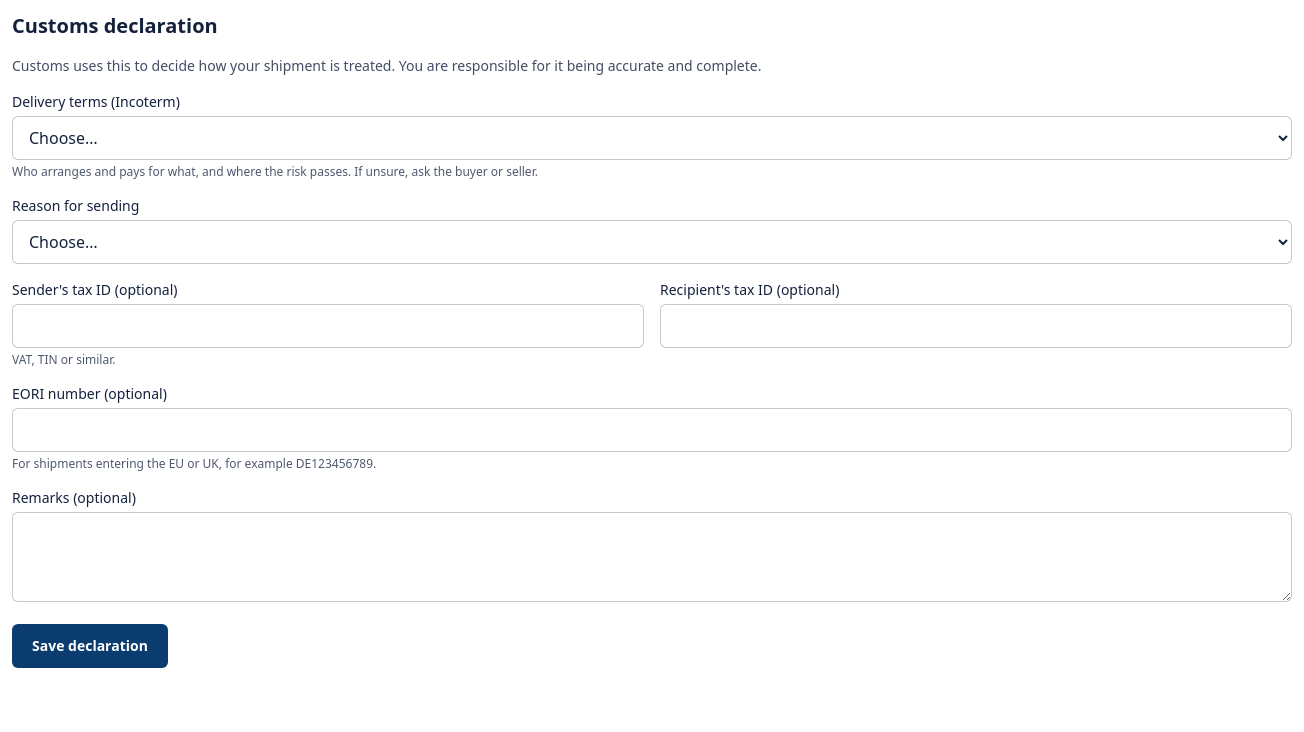
Scenario: DeclarationForm › saves the declaration and shows the saved values
Select "DAP — Delivered At Place" in the dropdown labelled "Delivery terms (Incoterm)": (652, 138) [12,116,1292,160]
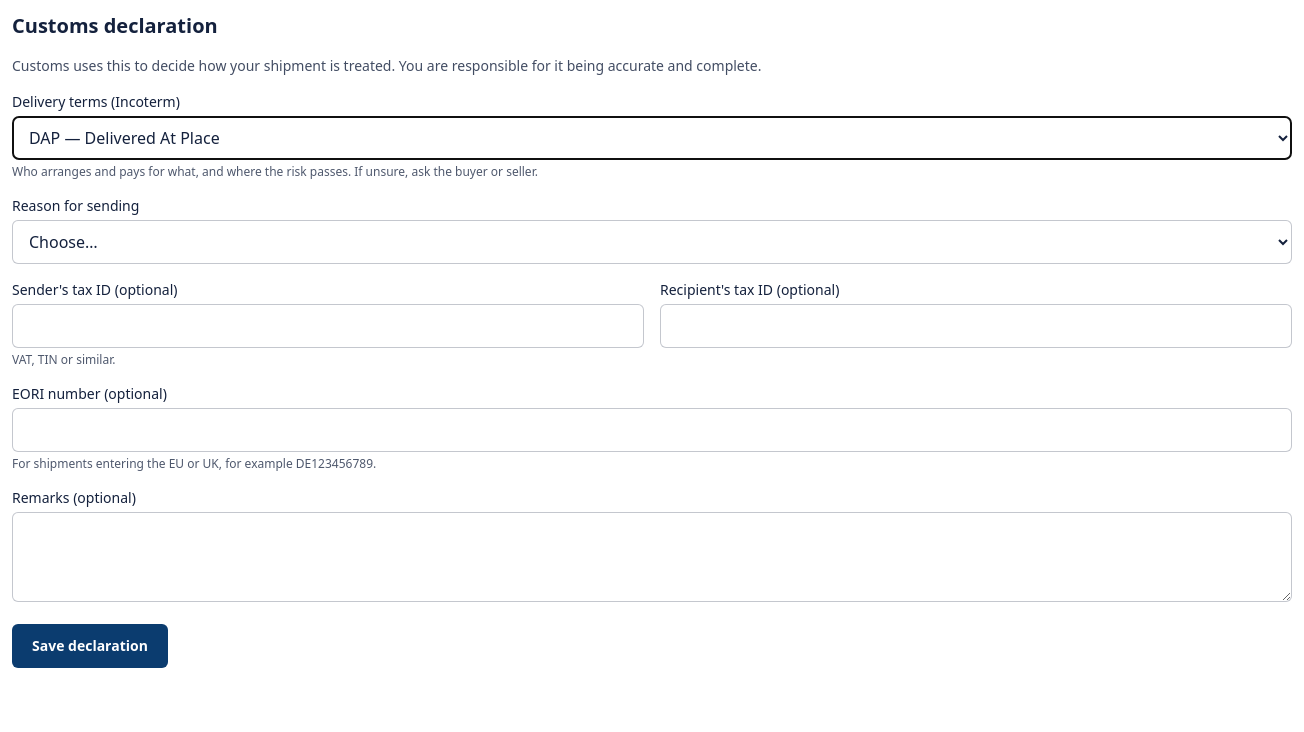
Select "Sale of goods" in the dropdown labelled "Reason for sending": (652, 242) [12,220,1292,264]
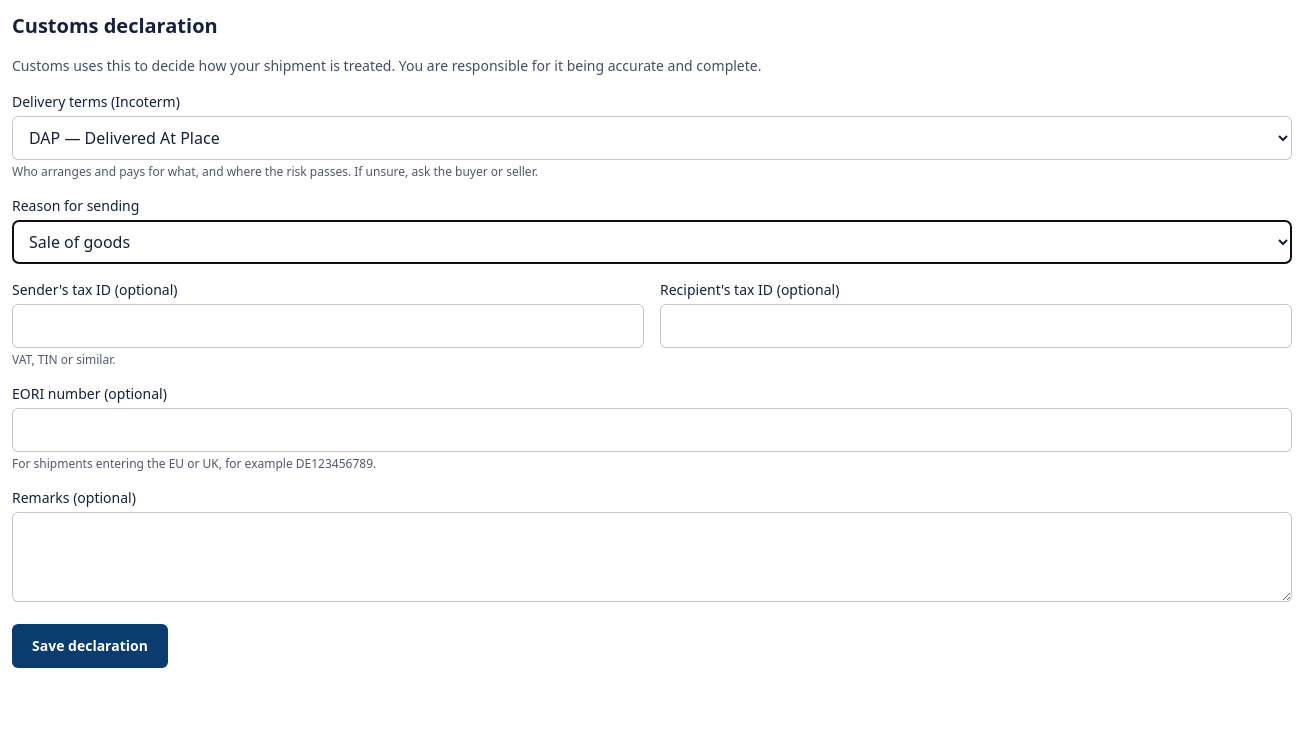
In the field labelled "EORI number (optional)": (652, 430) [12,408,1292,452], type "de123456789"
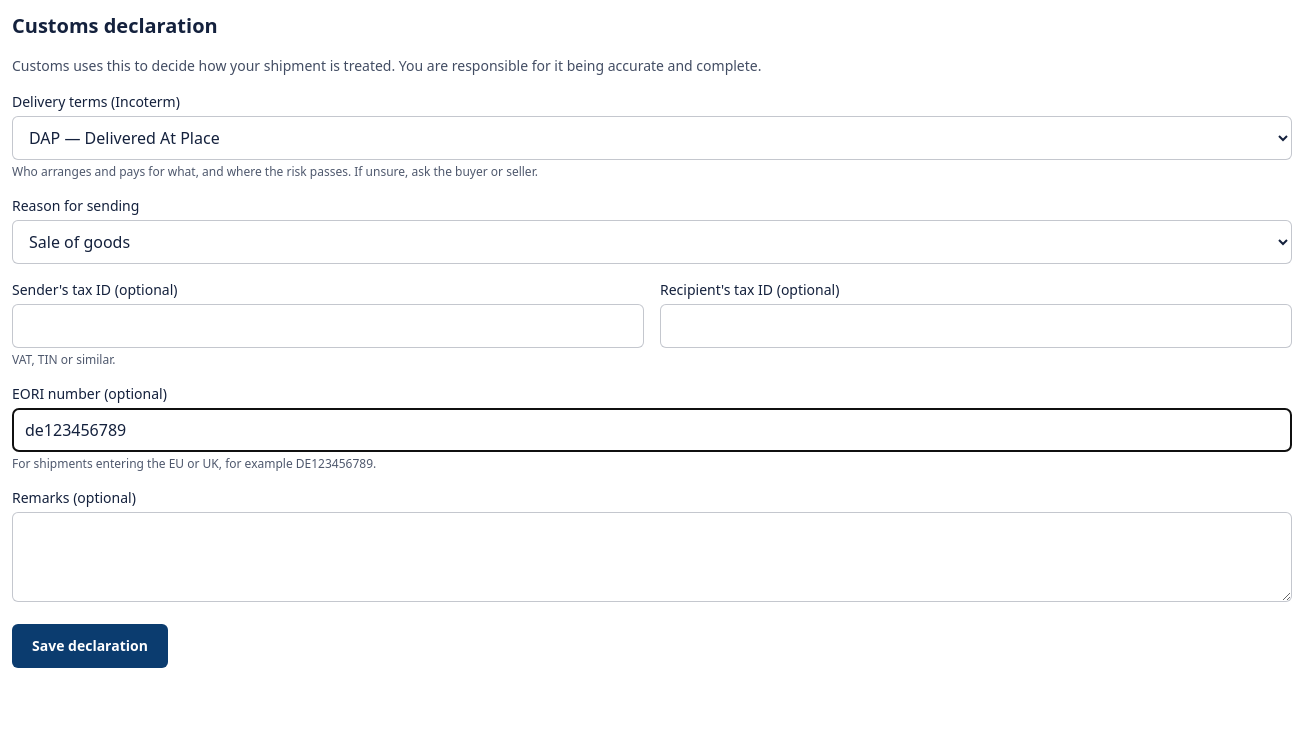
Click the button "Save declaration": (90, 646) [12,624,168,668]
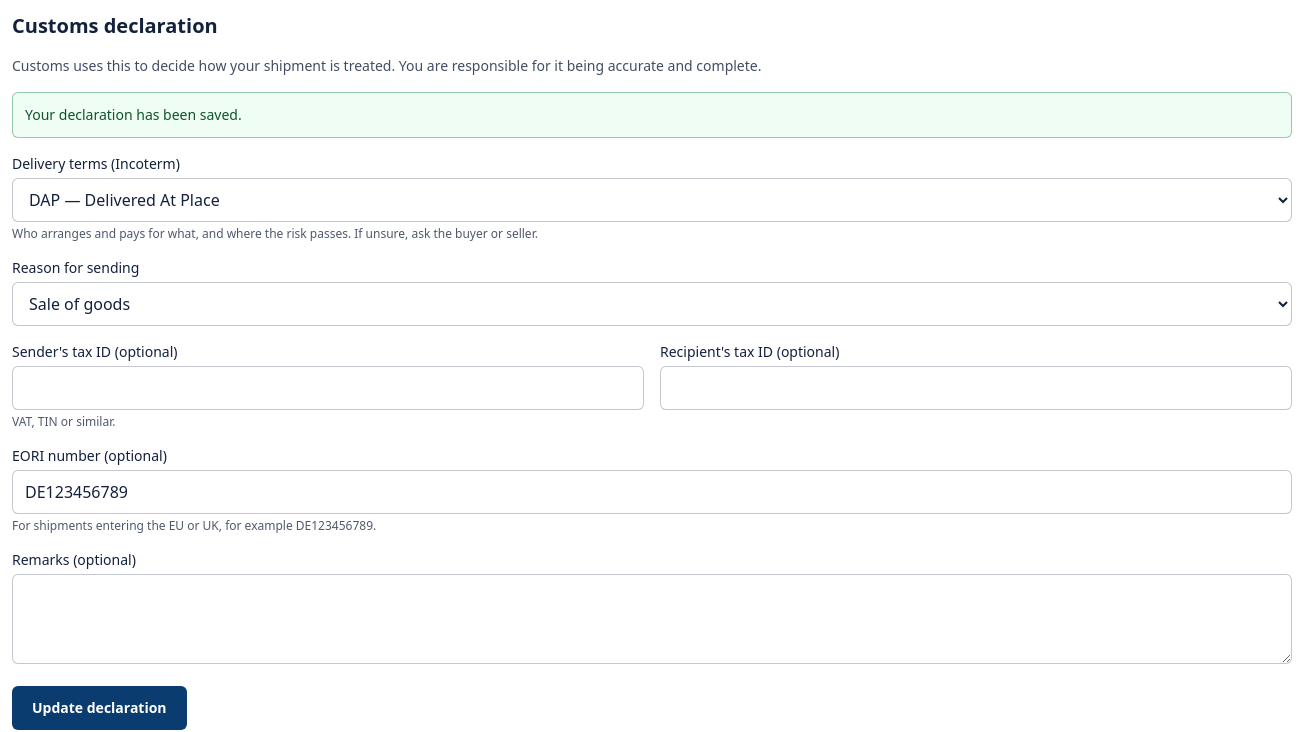
Check: the message reads "Your declaration has been saved.", box [25,105,242,124]
Check: the button "Update declaration" is shown, box [12,686,187,730]
